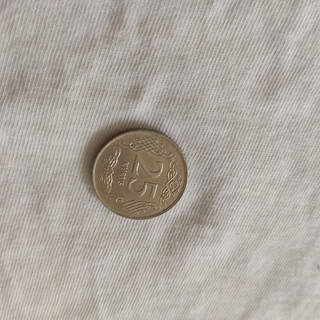25KURUS: (90, 127, 188, 220)
